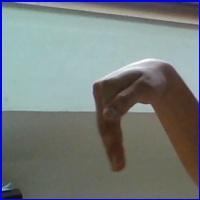A: (79, 54, 192, 179)
